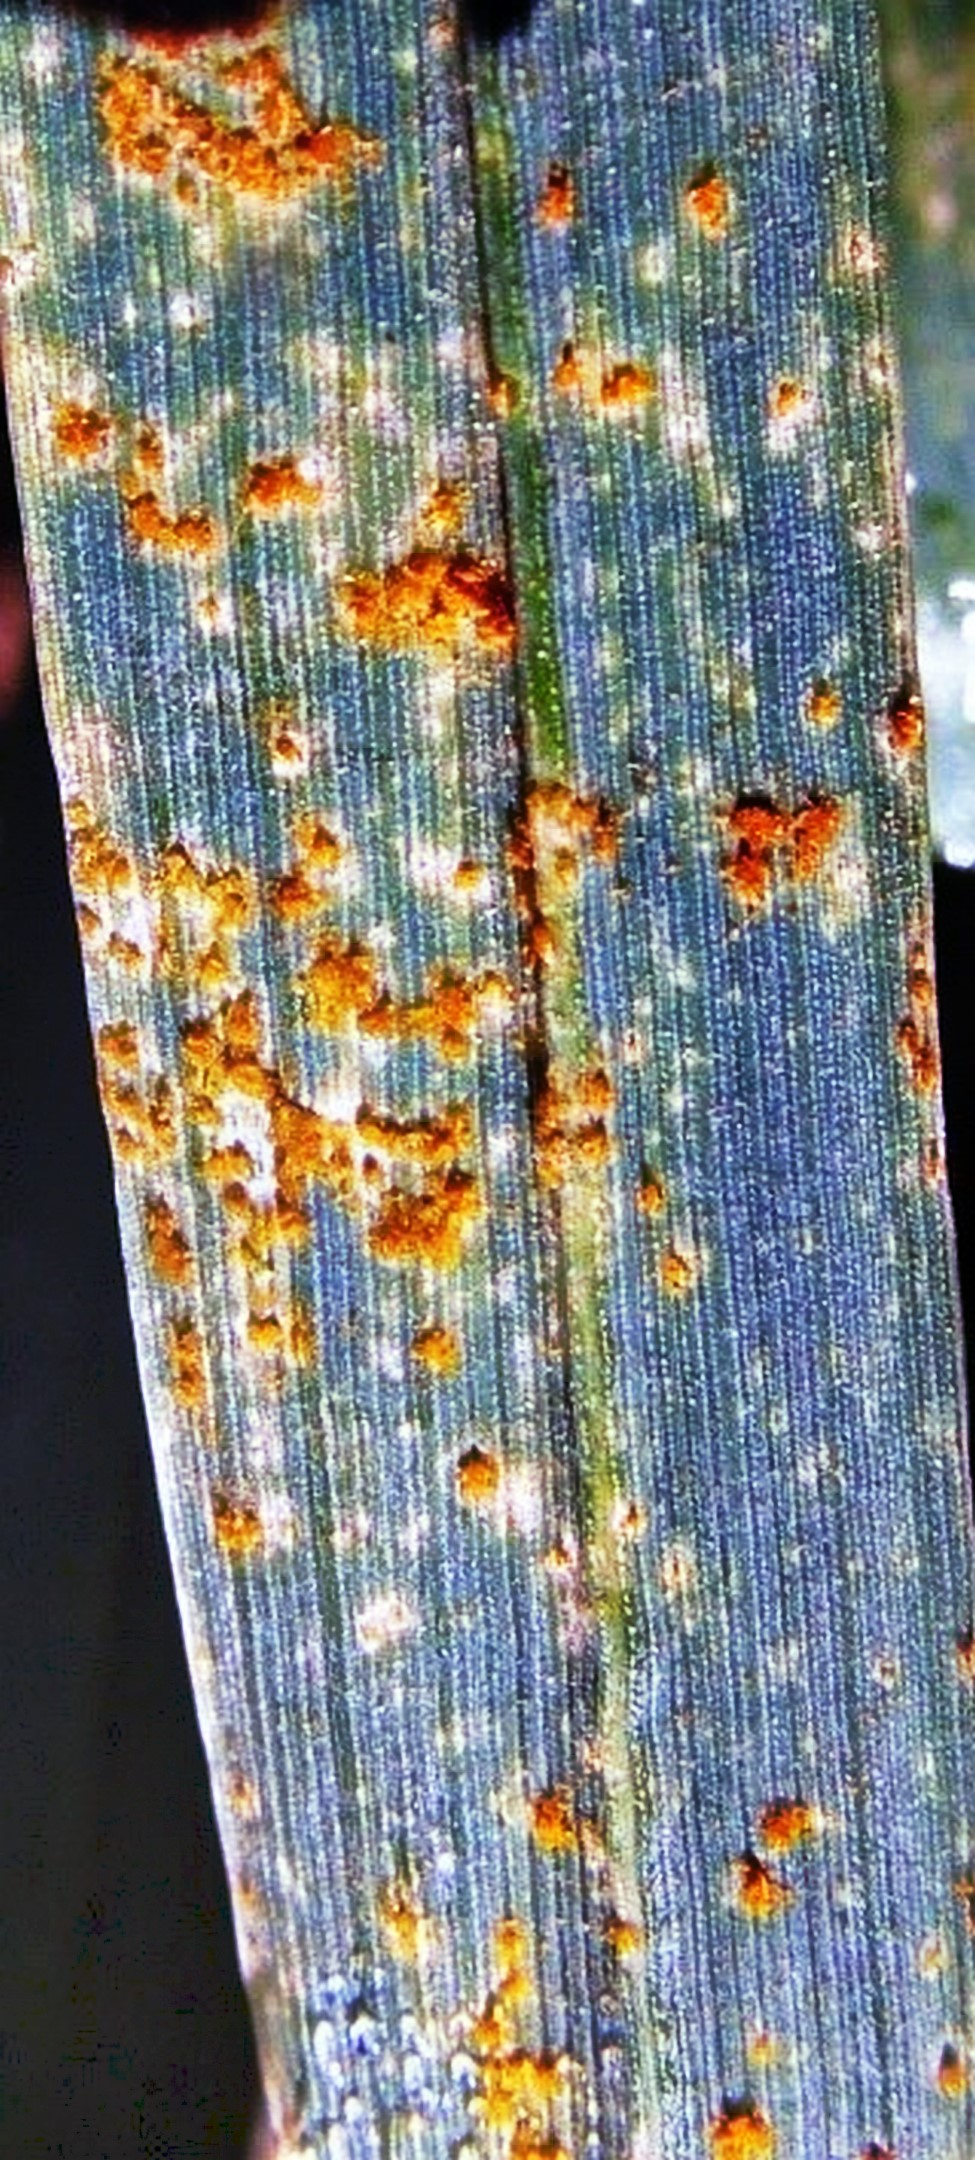Leaf Rust: (1, 67, 942, 2008)
